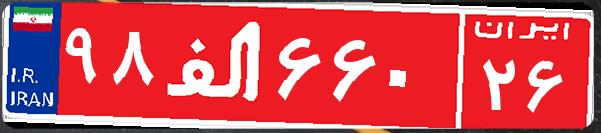0: (385, 28, 445, 110)
2: (475, 38, 525, 113)
6: (273, 28, 330, 110), (330, 28, 385, 110), (525, 38, 570, 115)
8: (110, 28, 158, 105)
9: (57, 26, 110, 107)
الف: (158, 15, 273, 115)
